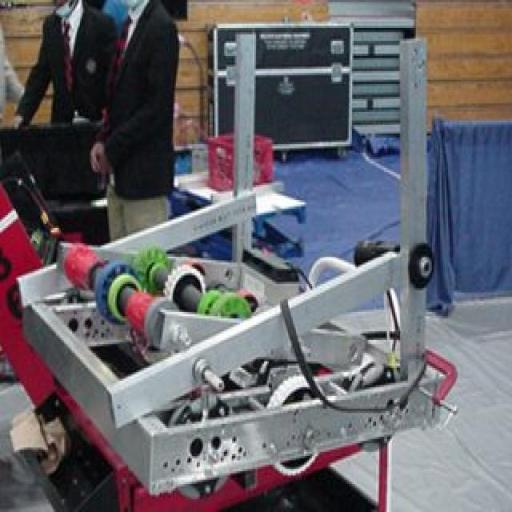robot: (28, 26, 439, 485)
